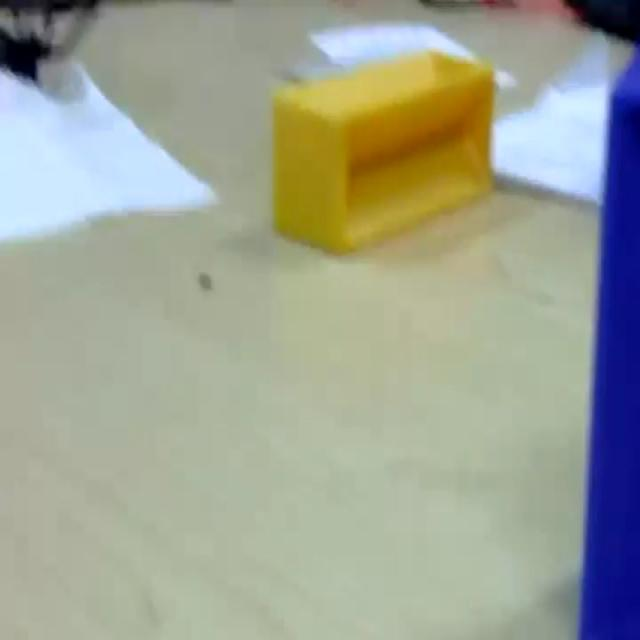yellow_block: (270, 46, 495, 255)
